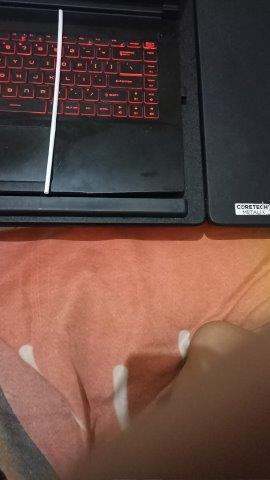sedotan: (44, 10, 64, 194)
